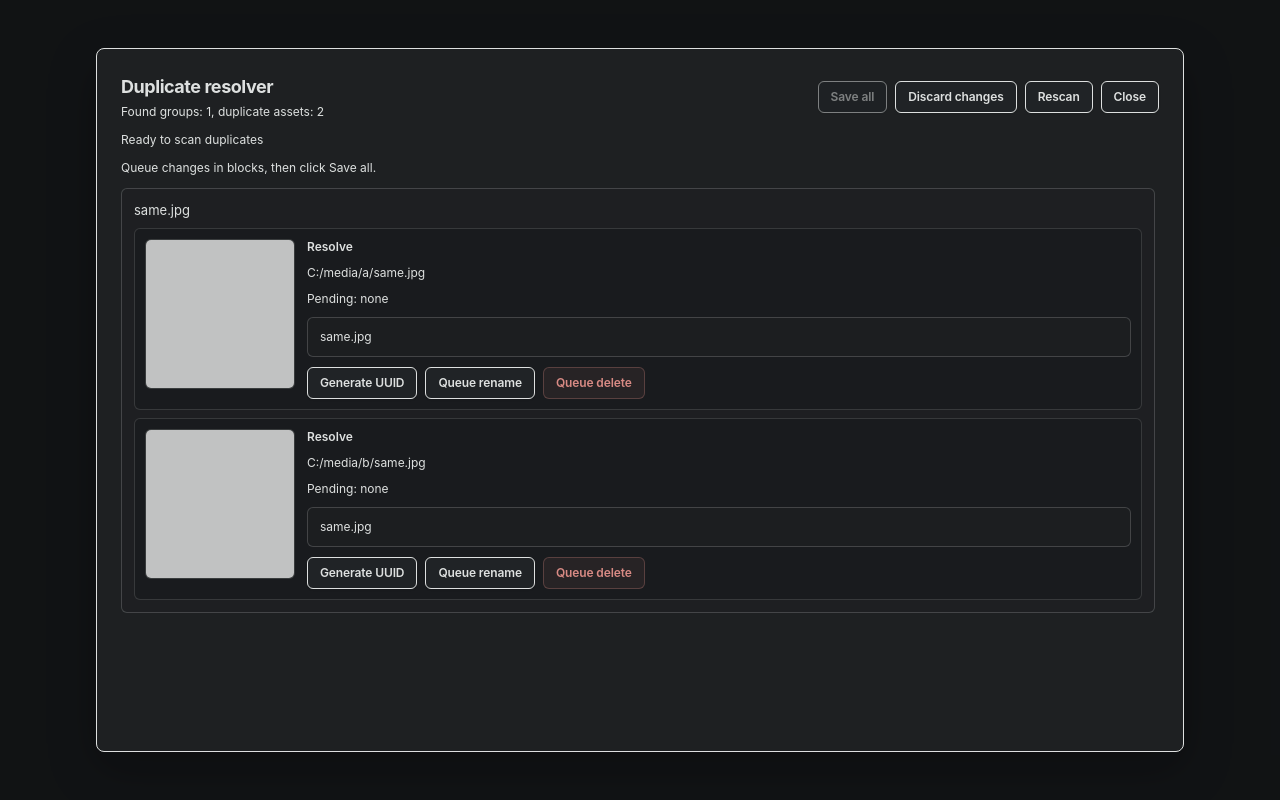
DuplicateResolverDialog › queues delete action and allows clearing it
This screenshot has width=1280, height=800.
Click the button "Queue delete" below "C:/media/a/same.jpg". click: (594, 383)
box: [543, 367, 645, 399]
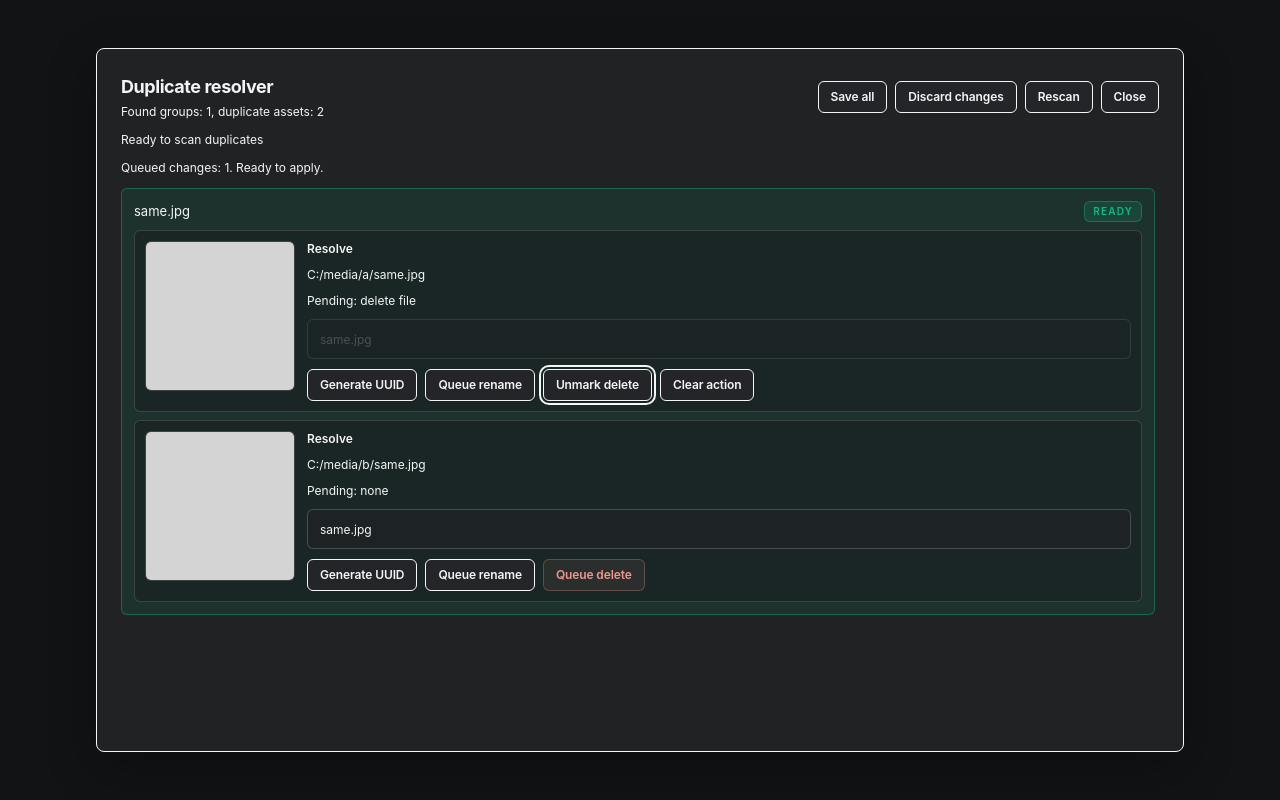
Now the text "Pending: delete file" is shown, box [307, 293, 416, 308]
Now the button "Unmark delete" is shown, box [543, 369, 652, 401]
Click the button "Clear action". click: (707, 385)
box: [660, 369, 754, 401]
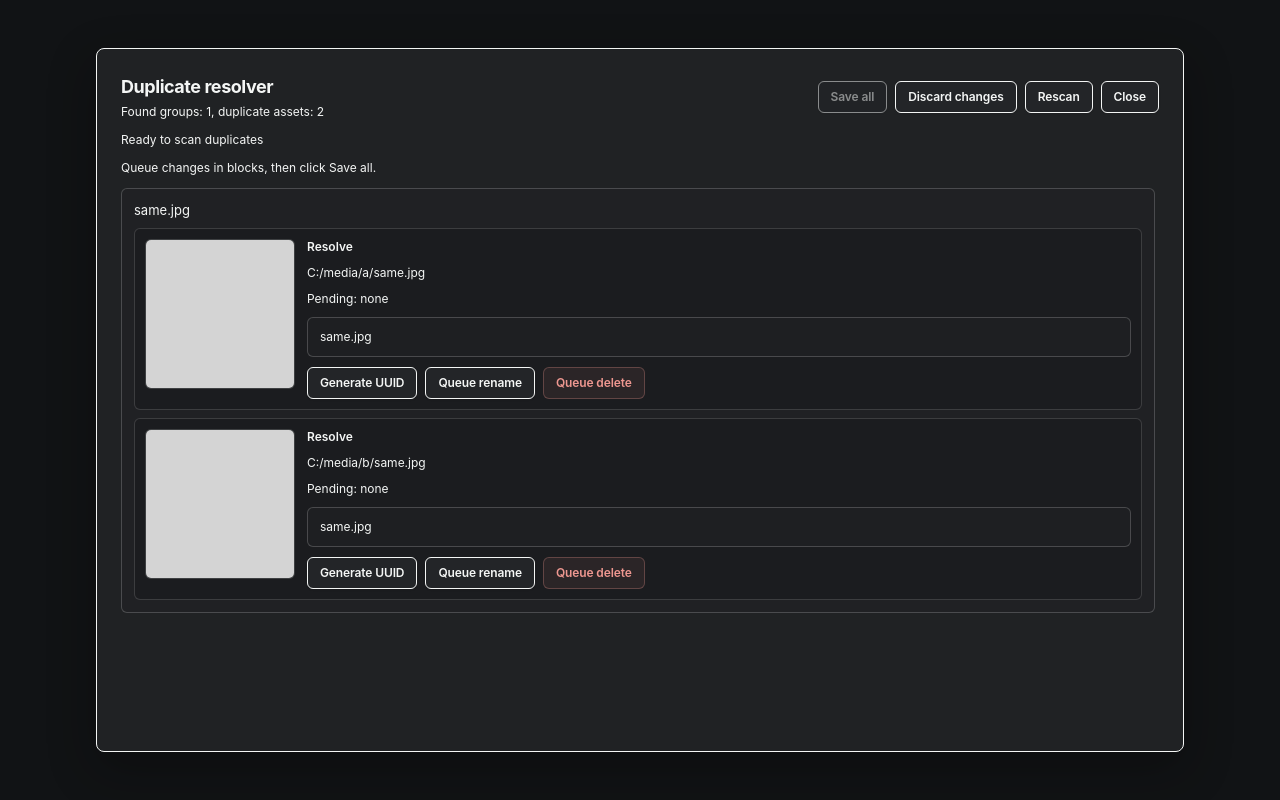
Now the text "Pending: delete file" is gone
